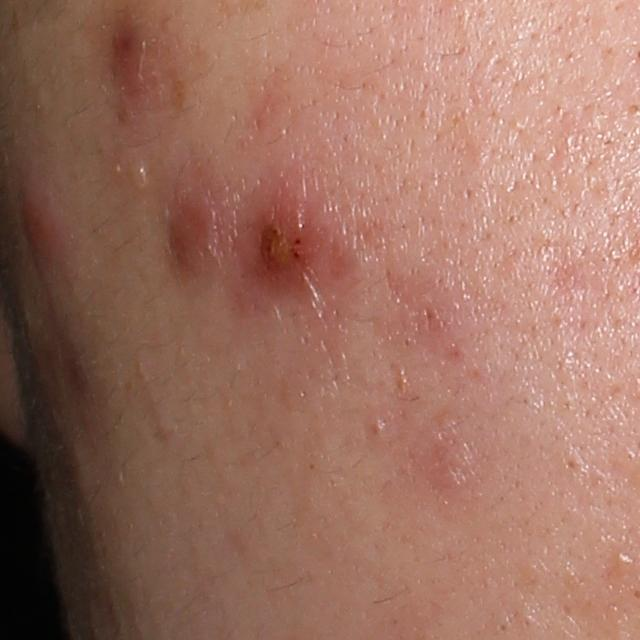comedo: (127, 160, 153, 194), (614, 553, 637, 573)
papule: (165, 187, 229, 274), (251, 199, 317, 281), (112, 26, 172, 114), (19, 184, 65, 250), (426, 432, 476, 488)
